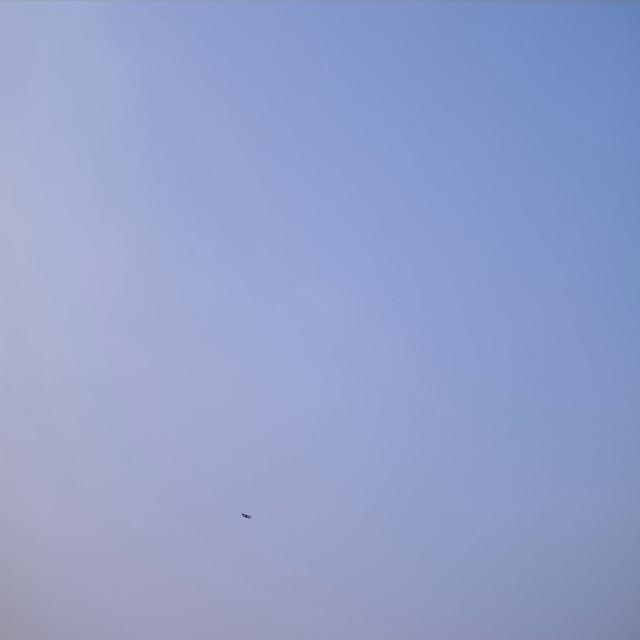UAV: (240, 512, 252, 520)
